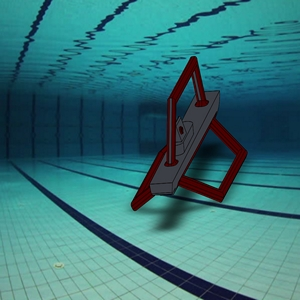submarine: (125, 52, 251, 223)
